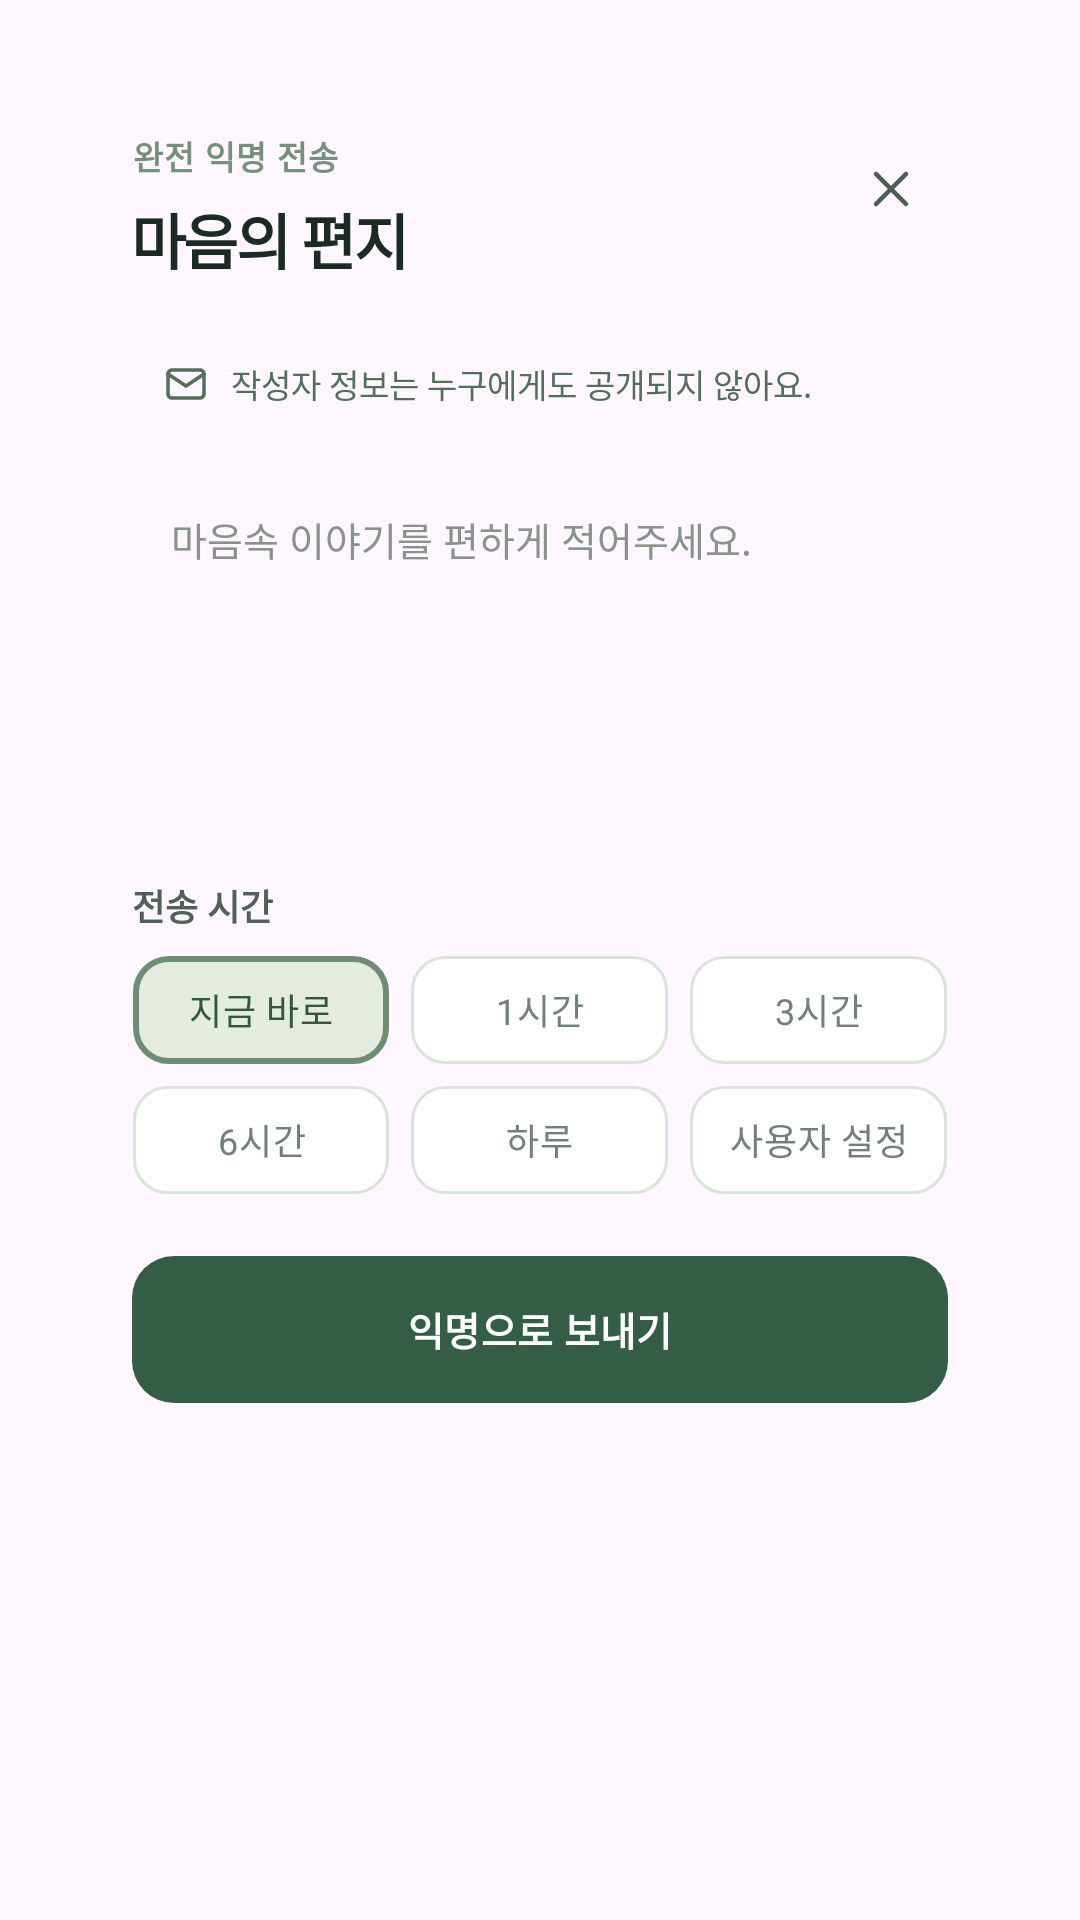

Icons on this 1080px×1920px Android screen, each with the point to tap as (x,y):
letter: (186,384)
닫기: (891,189)
